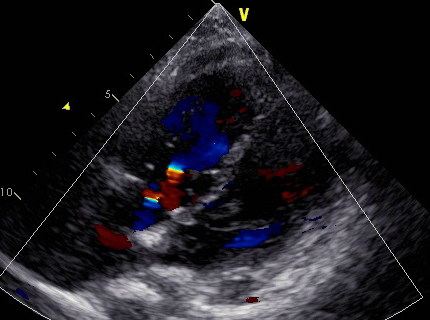TR: (124, 159, 198, 227)
